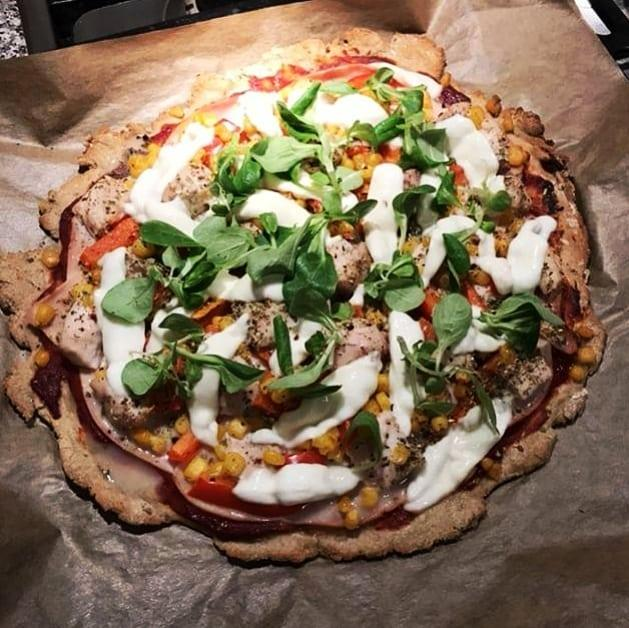Basil: (194, 197, 358, 326), (353, 68, 455, 173), (405, 296, 472, 417), (97, 258, 214, 325), (262, 316, 343, 405), (357, 247, 438, 316), (474, 290, 564, 350), (208, 146, 323, 183), (392, 176, 435, 260), (278, 79, 325, 151), (139, 217, 210, 260), (437, 224, 472, 297), (350, 408, 390, 469), (431, 162, 467, 213), (474, 190, 511, 227)
Cheese: (395, 388, 520, 510), (246, 349, 381, 448), (126, 118, 223, 231), (90, 243, 154, 400), (470, 211, 561, 302), (383, 301, 435, 450), (228, 458, 371, 505), (433, 114, 511, 197), (411, 214, 477, 298), (366, 54, 448, 118), (362, 157, 406, 274), (282, 87, 394, 128), (201, 261, 295, 309), (238, 186, 315, 238), (217, 91, 287, 137), (144, 299, 191, 358), (342, 279, 372, 312)
Corn: (124, 143, 168, 176), (313, 424, 344, 463), (494, 137, 531, 168), (214, 412, 253, 441), (174, 450, 209, 479), (355, 148, 385, 180), (127, 232, 160, 261), (255, 377, 288, 406), (231, 112, 263, 139), (319, 116, 353, 141), (353, 478, 380, 509), (386, 437, 412, 469), (221, 450, 249, 478), (192, 104, 223, 129), (39, 242, 63, 274), (465, 263, 497, 287), (34, 297, 58, 328), (131, 424, 157, 452), (263, 444, 285, 476), (475, 91, 507, 113), (147, 431, 173, 458), (207, 312, 239, 333), (373, 369, 396, 395), (570, 319, 595, 342), (497, 345, 521, 368), (462, 232, 486, 255), (31, 344, 53, 369), (173, 408, 193, 434), (452, 376, 472, 402), (466, 105, 486, 131), (498, 110, 521, 132), (373, 391, 394, 415), (430, 413, 451, 437), (495, 229, 513, 256), (358, 396, 380, 418), (567, 362, 590, 383), (341, 504, 360, 529), (339, 149, 358, 174), (578, 345, 598, 366), (332, 493, 348, 517), (204, 461, 225, 479), (210, 440, 227, 461), (504, 214, 524, 231), (167, 104, 185, 119)
Peppers: (160, 450, 338, 519), (145, 88, 242, 141), (243, 61, 382, 93), (77, 218, 142, 269), (517, 171, 560, 219), (160, 433, 199, 461)
Pizza: (0, 24, 607, 556)
